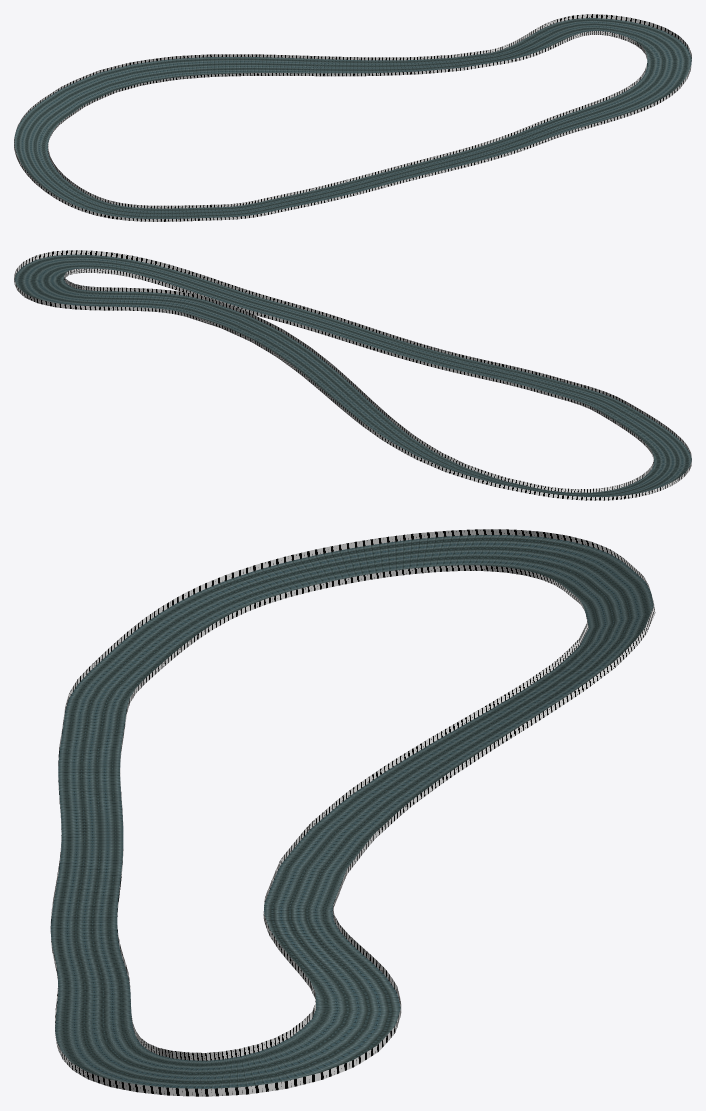
File: new_Temp_coll.fbx
3 views of the same model, one above another, from view 1: azimuth 30°, elevation 25°; view 2: azimuth 150°, elevation 25°; view 3: azimuth 270°, elevation 25° (orthographic). The views are drawn at different scales.
Parts seen in each view (by area): view 1: Road_coll, Wall_coll; view 2: Road_coll, Wall_coll; view 3: Road_coll, Wall_coll.
Boxes of the visible parts, box(x1,y1,x2,y2) form: Road_coll: box(14, 18, 691, 218); Wall_coll: box(14, 14, 691, 221); Road_coll: box(14, 254, 691, 496); Wall_coll: box(14, 250, 691, 500); Road_coll: box(50, 535, 653, 1088); Wall_coll: box(50, 529, 655, 1096).
Bounding box in the file's own units: 212743 × 16522 × 91492.
